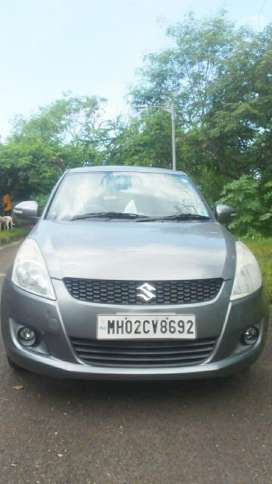license_plate: (96, 314, 200, 338)
